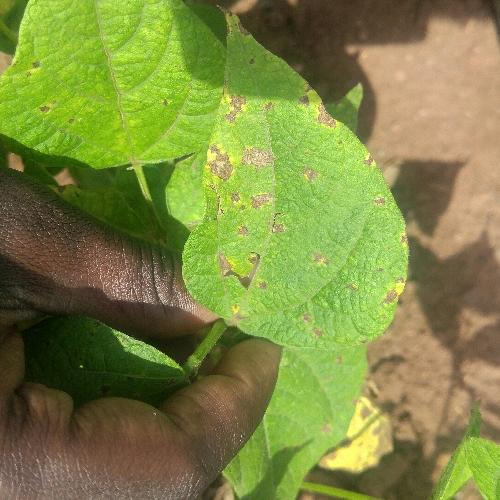embun tepung: (143, 60, 421, 357)
